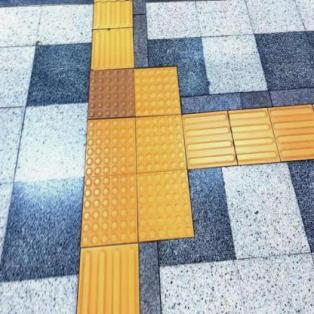Podoctatil: (52, 24, 242, 304), (188, 103, 313, 169), (73, 252, 142, 314), (92, 2, 135, 66)
